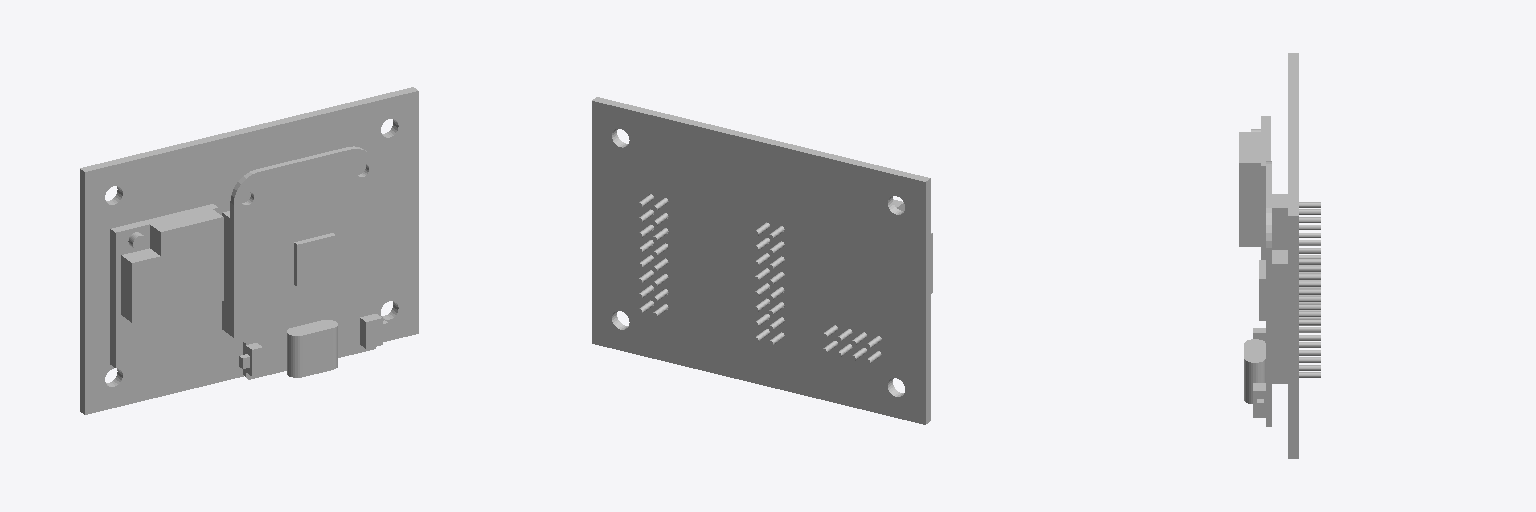
File: MLH1 v1.0.obj
The picture shows the model from 3 angles: view 1: azimuth 30°, elevation 25°; view 2: azimuth 150°, elevation 25°; view 3: azimuth 270°, elevation 25°; orthographic projection.
Visible parts, largest first — view 1: Body1, PCB:1, SX11278, PCB, ESB-C, ESP32-S2, J1, B0; view 2: Body1; view 3: Body1, SX11278, J2, PCB:1, ESB-C, J1, PCB.
Part boxes in pixels (left/top/right/bottom): Body1: left=80, top=87, right=418, bottom=414; PCB:1: left=230, top=146, right=375, bottom=379; SX11278: left=121, top=206, right=223, bottom=322; PCB: left=110, top=204, right=217, bottom=367; ESB-C: left=287, top=320, right=337, bottom=377; ESP32-S2: left=294, top=233, right=335, bottom=286; J1: left=222, top=211, right=229, bottom=334; B0: left=360, top=314, right=382, bottom=348; Body1: left=592, top=97, right=930, bottom=424; Body1: left=1288, top=53, right=1298, bottom=458; SX11278: left=1239, top=132, right=1270, bottom=246; J2: left=1272, top=250, right=1287, bottom=383; PCB:1: left=1266, top=161, right=1271, bottom=426; ESB-C: left=1244, top=339, right=1265, bottom=403; J1: left=1272, top=194, right=1287, bottom=249; PCB: left=1261, top=116, right=1270, bottom=259.
Size of the model in its own units: 58.42 by 40.64 by 12.5.